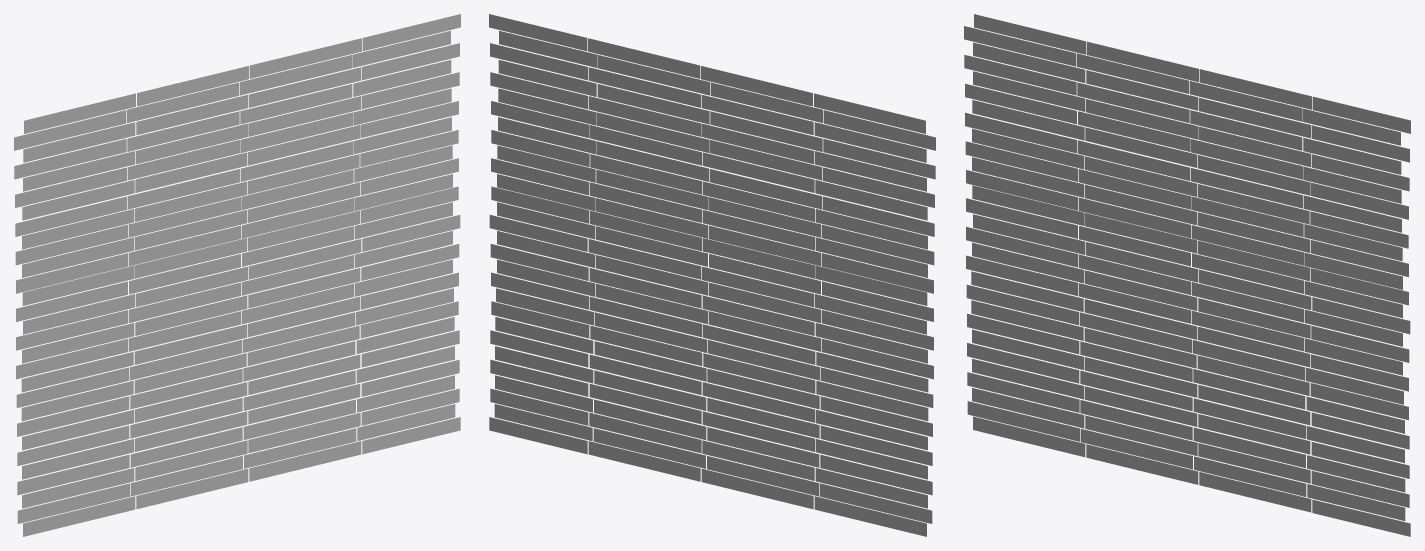
Rendered from bamboo.gltf.
3 views of the same model, side by side, from view 1: azimuth 30°, elevation 25°; view 2: azimuth 150°, elevation 25°; view 3: azimuth 330°, elevation 25° (orthographic).
Parts seen in each view (by area): view 1: bamboo; view 2: bamboo; view 3: bamboo.
Part boxes in pixels (box(x1,y1,x2,y2)): bamboo: box(14, 14, 460, 536); bamboo: box(489, 14, 935, 536); bamboo: box(964, 14, 1410, 536).
Size of the model in its own units: 40.44 by 36.03 by 3.38e-15.
116 materials, 116 textured.
